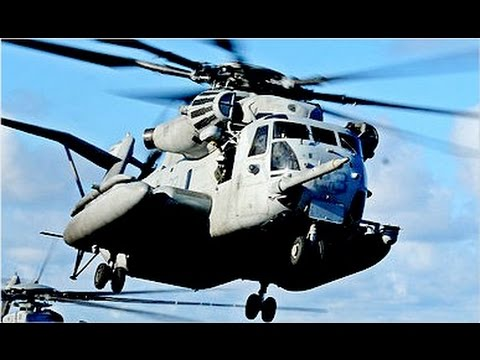MilitaryHelicopter: (85, 81, 400, 283)
